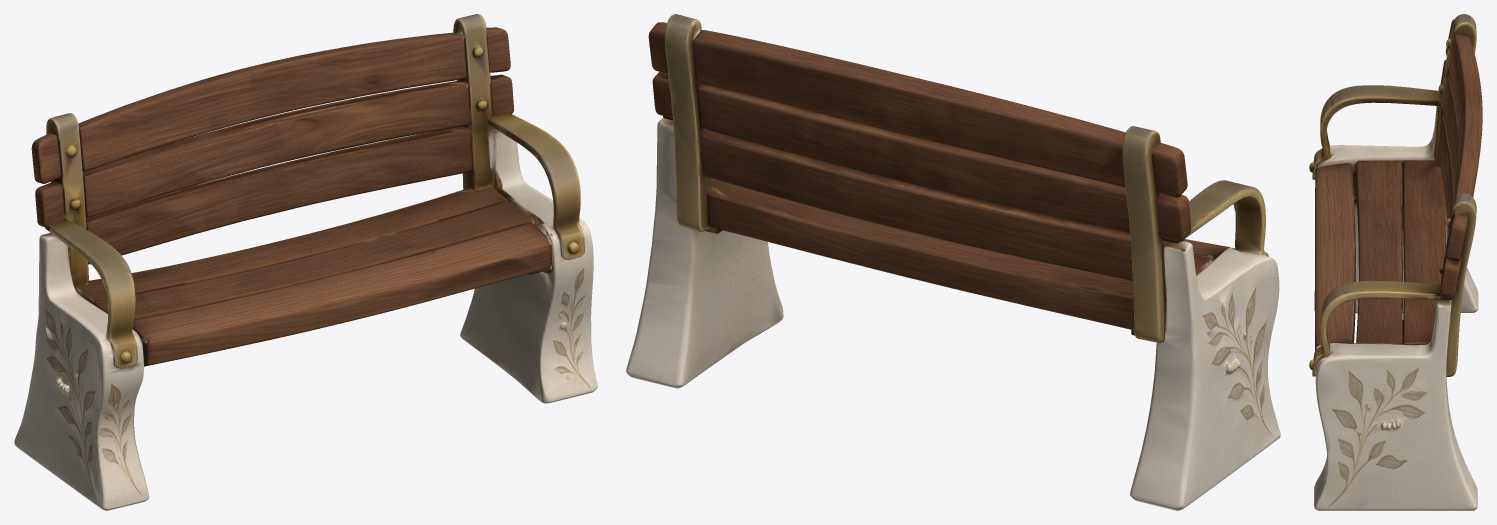
Rendered from bench-v1.glb.
3 views of the same model, side by side, from view 1: azimuth 30°, elevation 25°; view 2: azimuth 150°, elevation 25°; view 3: azimuth 270°, elevation 25° (orthographic). The views are drawn at different scales.
Parts seen in each view (by area): view 1: bench metre normalization; view 2: bench metre normalization; view 3: bench metre normalization.
Part boxes in pixels (x1=…): bench metre normalization: x1=14, y1=14, x2=597, y2=510; bench metre normalization: x1=626, y1=14, x2=1280, y2=510; bench metre normalization: x1=1309, y1=14, x2=1482, y2=510.
Bounding box in the file's own units: 1.6 × 1 × 0.535.
Materials: 1 (1 with a texture image).
